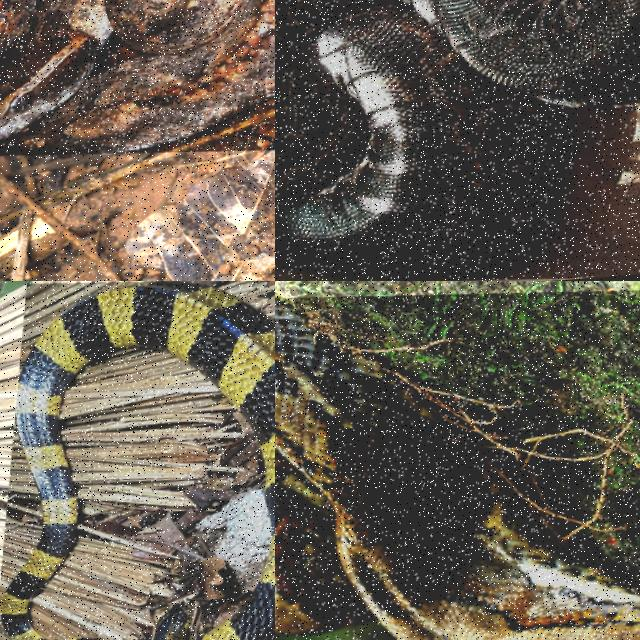Bungarus fasciatus: (1, 281, 274, 639)
Calloselasma rhodostoma: (0, 0, 274, 153)
Malayopython reticulatus: (275, 300, 639, 639)
Python bivittatus: (275, 0, 639, 280)
snake: (275, 300, 639, 639), (275, 0, 639, 280), (1, 281, 274, 639), (0, 0, 274, 153)
